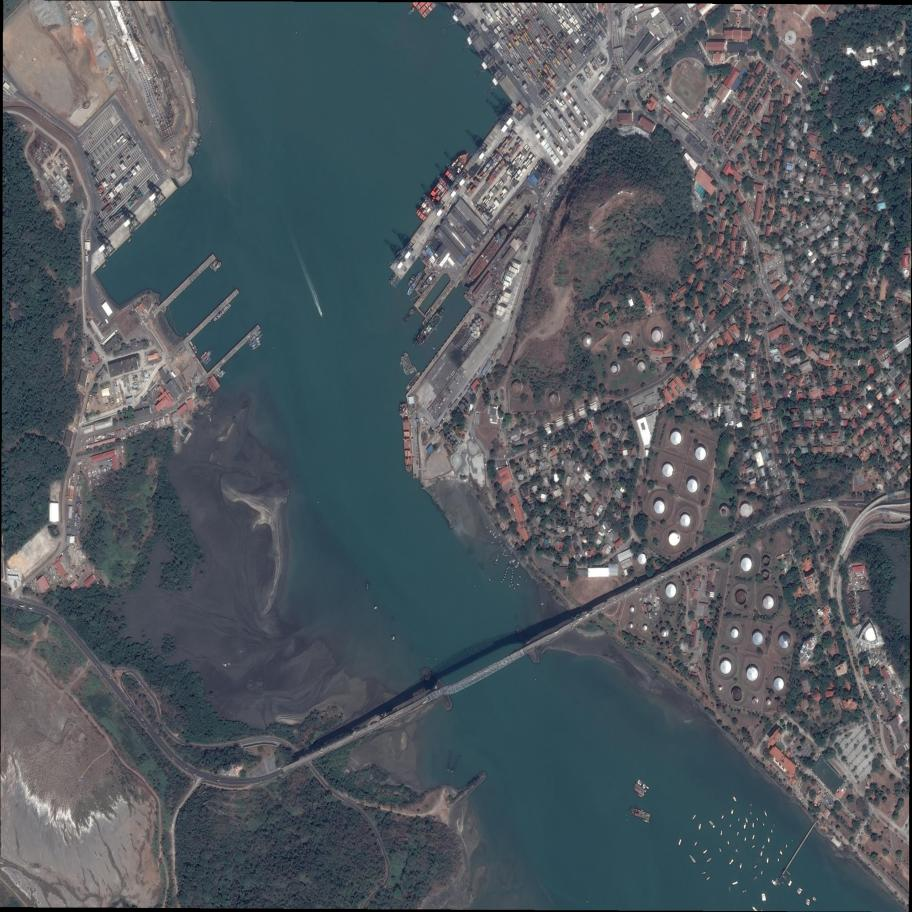ship: (462, 206, 540, 306), (411, 144, 474, 224), (464, 226, 511, 284), (411, 306, 448, 349), (399, 403, 413, 475), (416, 270, 438, 296), (405, 270, 424, 297), (212, 301, 233, 323), (628, 806, 652, 823), (404, 371, 423, 392), (401, 350, 416, 376), (246, 329, 263, 345), (248, 333, 264, 348), (210, 259, 225, 274), (405, 273, 417, 287), (633, 784, 647, 796), (249, 339, 262, 349), (209, 259, 220, 270), (687, 852, 697, 864), (214, 368, 225, 378), (389, 276, 399, 286), (388, 279, 398, 289), (251, 342, 262, 351), (392, 273, 401, 282), (411, 363, 419, 373), (218, 371, 227, 379), (728, 858, 735, 866), (709, 820, 716, 828), (761, 893, 767, 902), (771, 880, 778, 887), (731, 880, 739, 886), (201, 351, 207, 359), (207, 413, 212, 422), (204, 356, 210, 363), (677, 839, 683, 846), (206, 358, 212, 365), (208, 406, 213, 414), (743, 822, 747, 831), (207, 390, 213, 396), (706, 857, 712, 863), (318, 309, 323, 316), (788, 880, 793, 886), (192, 347, 197, 353), (698, 823, 702, 830), (194, 344, 198, 351), (751, 844, 756, 849), (813, 896, 818, 901), (812, 898, 817, 903), (753, 876, 758, 881), (703, 849, 708, 854), (692, 815, 697, 820), (742, 889, 748, 893), (733, 796, 737, 802), (720, 830, 723, 837), (762, 844, 766, 849), (797, 890, 801, 895), (805, 902, 810, 906), (779, 850, 783, 855), (637, 779, 641, 784), (694, 841, 698, 846), (752, 834, 755, 840), (764, 811, 767, 817), (207, 396, 213, 399), (798, 889, 802, 893), (754, 865, 758, 869), (706, 876, 710, 880), (503, 549, 507, 553), (223, 663, 227, 667), (721, 815, 725, 819), (760, 851, 763, 856), (735, 848, 738, 853), (719, 848, 722, 853), (744, 837, 747, 842), (806, 901, 811, 904), (806, 899, 811, 902), (777, 858, 780, 863), (638, 780, 641, 785), (640, 781, 643, 786), (745, 818, 748, 823), (642, 783, 645, 788), (645, 786, 650, 789), (799, 888, 803, 891), (729, 824, 732, 828), (768, 837, 770, 843), (785, 844, 788, 848), (540, 603, 544, 606), (737, 818, 740, 822), (740, 863, 742, 868), (737, 831, 739, 836), (761, 870, 763, 875), (767, 858, 769, 863), (731, 809, 733, 814), (644, 784, 646, 789), (702, 872, 706, 874), (727, 840, 729, 844), (771, 829, 773, 833), (504, 555, 508, 557), (750, 811, 752, 815), (763, 823, 765, 826), (757, 818, 759, 821), (753, 823, 754, 827), (773, 824, 774, 827)
storage-tank: (777, 631, 792, 650), (718, 658, 733, 675), (686, 476, 700, 494), (661, 462, 675, 479), (694, 445, 708, 462), (734, 589, 748, 606), (739, 501, 753, 518), (746, 665, 760, 682), (653, 498, 666, 516), (740, 554, 753, 572), (762, 593, 775, 611), (665, 581, 678, 599), (670, 429, 683, 446), (752, 629, 765, 646), (650, 328, 664, 343), (581, 332, 594, 348), (668, 531, 681, 547), (731, 685, 743, 702), (718, 503, 731, 518), (680, 513, 692, 529), (773, 676, 785, 692), (512, 379, 523, 395), (621, 332, 632, 347), (549, 392, 560, 406), (610, 361, 620, 375), (760, 569, 771, 581), (637, 360, 647, 373), (637, 552, 647, 565), (730, 627, 740, 640), (645, 603, 654, 615), (761, 556, 770, 567), (660, 628, 669, 639), (752, 696, 759, 705), (643, 623, 649, 632), (629, 605, 635, 613), (766, 699, 772, 707), (629, 623, 634, 629)
